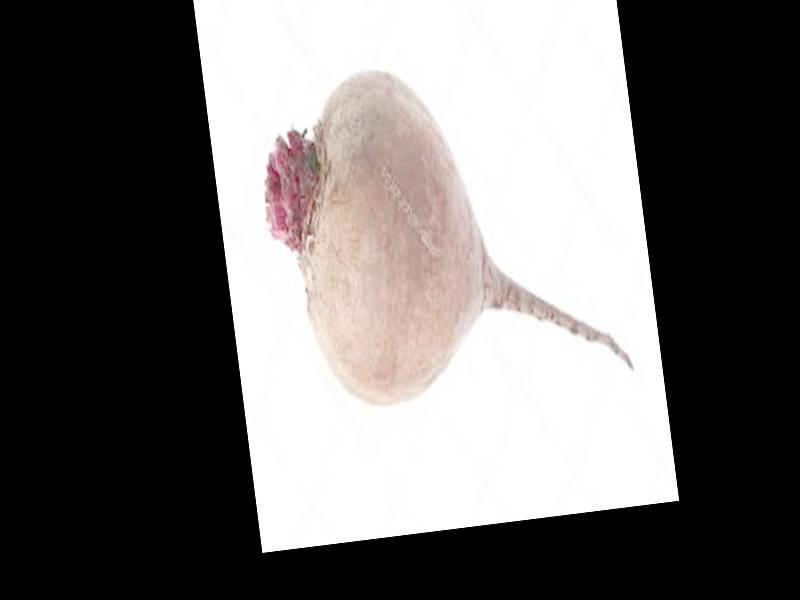Beet: (250, 37, 634, 417)
